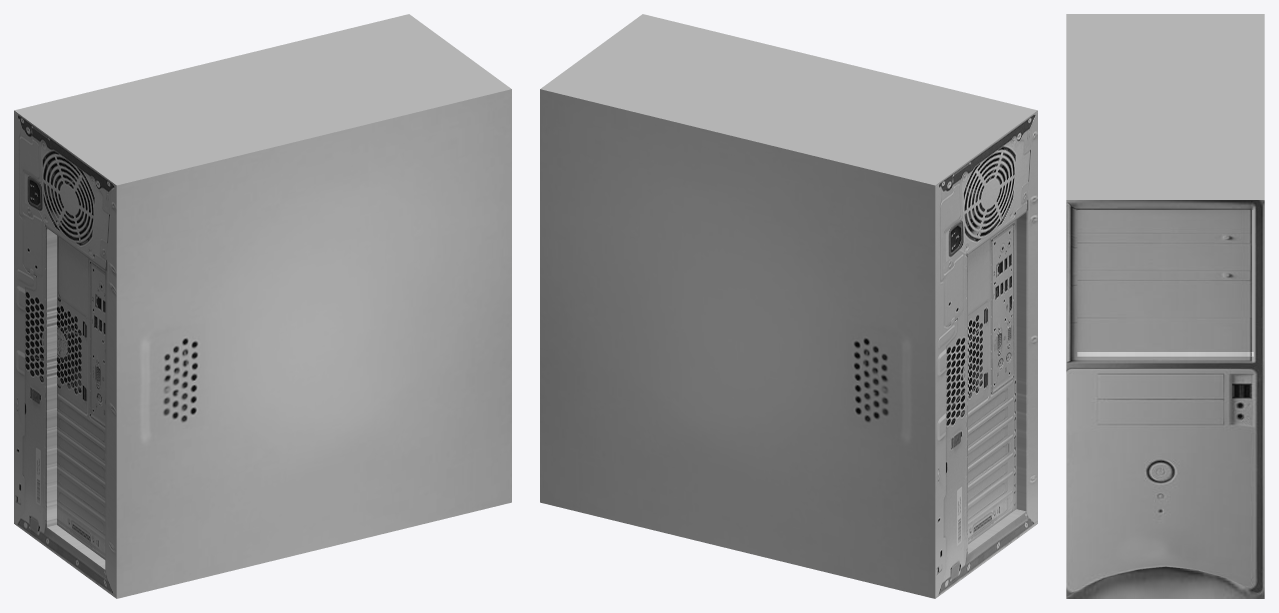
File: computer.FBX
The picture shows the model from 3 angles, left to right: view 1: azimuth 30°, elevation 25°; view 2: azimuth 150°, elevation 25°; view 3: azimuth 270°, elevation 25°; orthographic projection. The views are drawn at different scales.
Visible parts, largest first — view 1: computer; view 2: computer; view 3: computer.
Part boxes in pixels (x1=…): computer: x1=14, y1=14, x2=511, y2=598; computer: x1=540, y1=14, x2=1037, y2=598; computer: x1=1066, y1=14, x2=1264, y2=598.
Size of the model in its own units: 40 by 40 by 18.
1 material, 1 textured.
